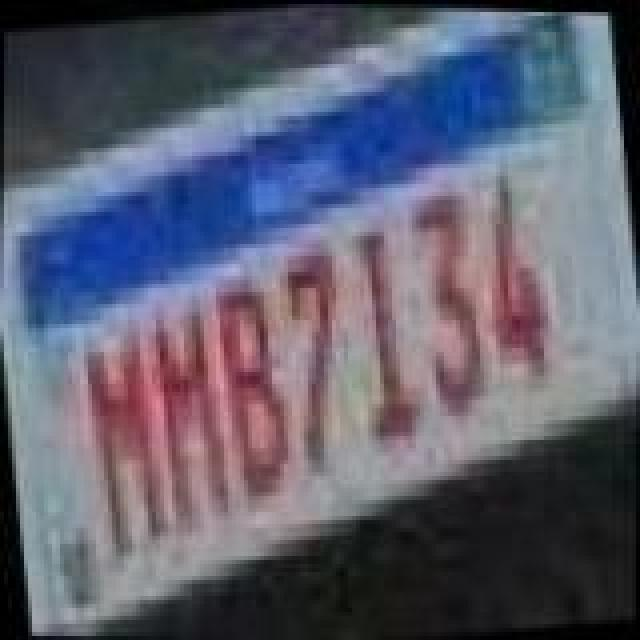3: (396, 184, 500, 424)
4: (466, 154, 558, 394)
7: (274, 246, 366, 482)
B: (204, 266, 304, 518)
I: (340, 224, 428, 460)
M: (74, 316, 178, 568), (138, 294, 242, 538)
